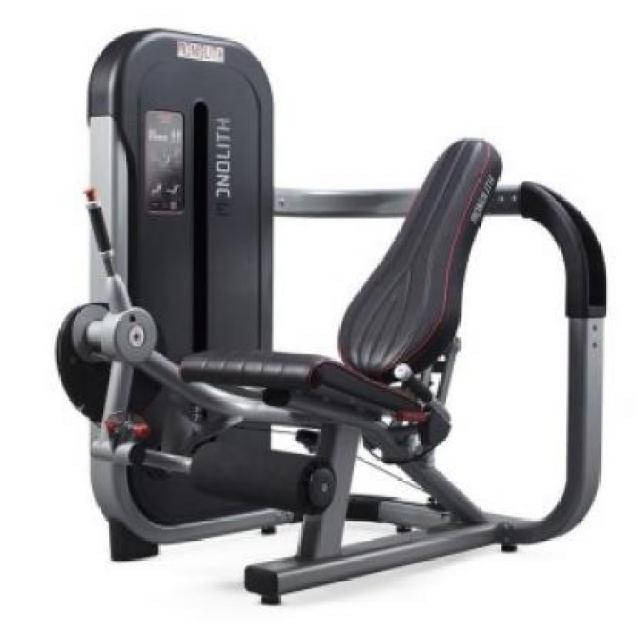leg extension: (46, 15, 632, 612)
